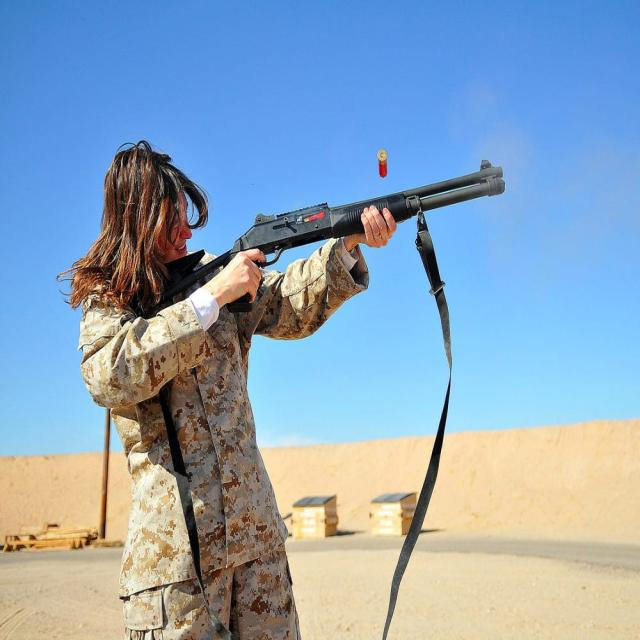ShotGun: (159, 160, 505, 303)
